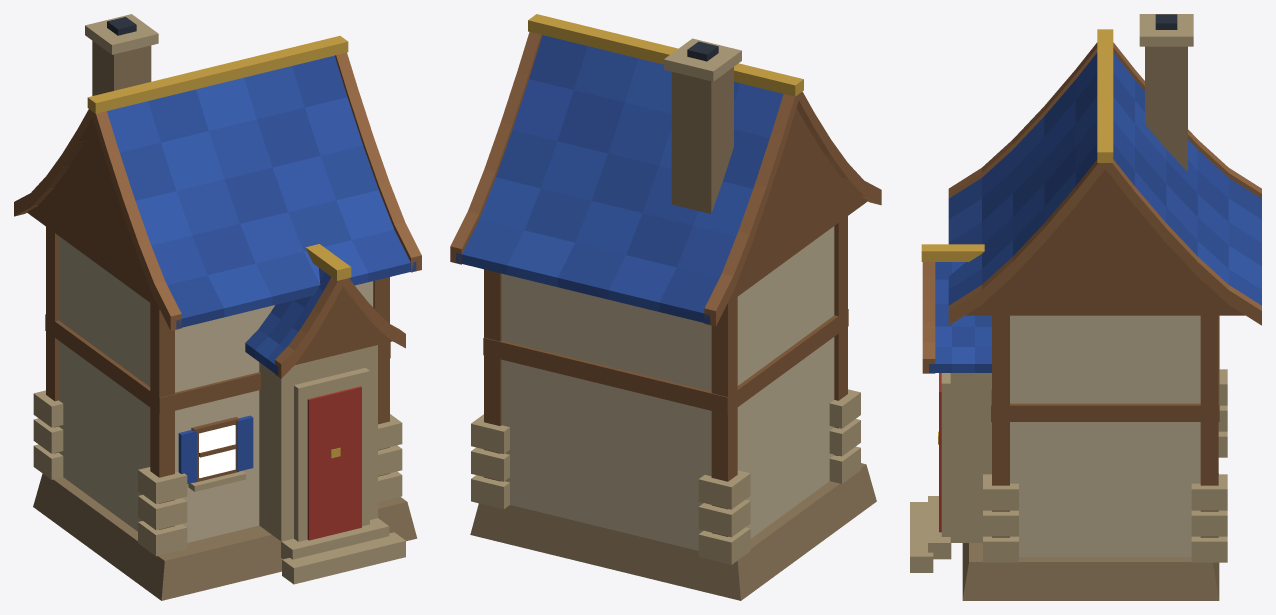
The model's file is house_t1.glb.
3 renders of one model, left to right at view 1: azimuth 30°, elevation 25°; view 2: azimuth 150°, elevation 25°; view 3: azimuth 270°, elevation 25°, orthographic. The views are drawn at different scales.
Parts seen in each view (by area): view 1: body, glow; view 2: body; view 3: body.
Part boxes in pixels (x1,y1,x2,y2): body: [14, 14, 421, 600]; glow: [199, 425, 235, 477]; body: [450, 14, 881, 600]; body: [910, 14, 1261, 600].
Bounding box in the file's own units: 1.64 × 2.99 × 1.95.
